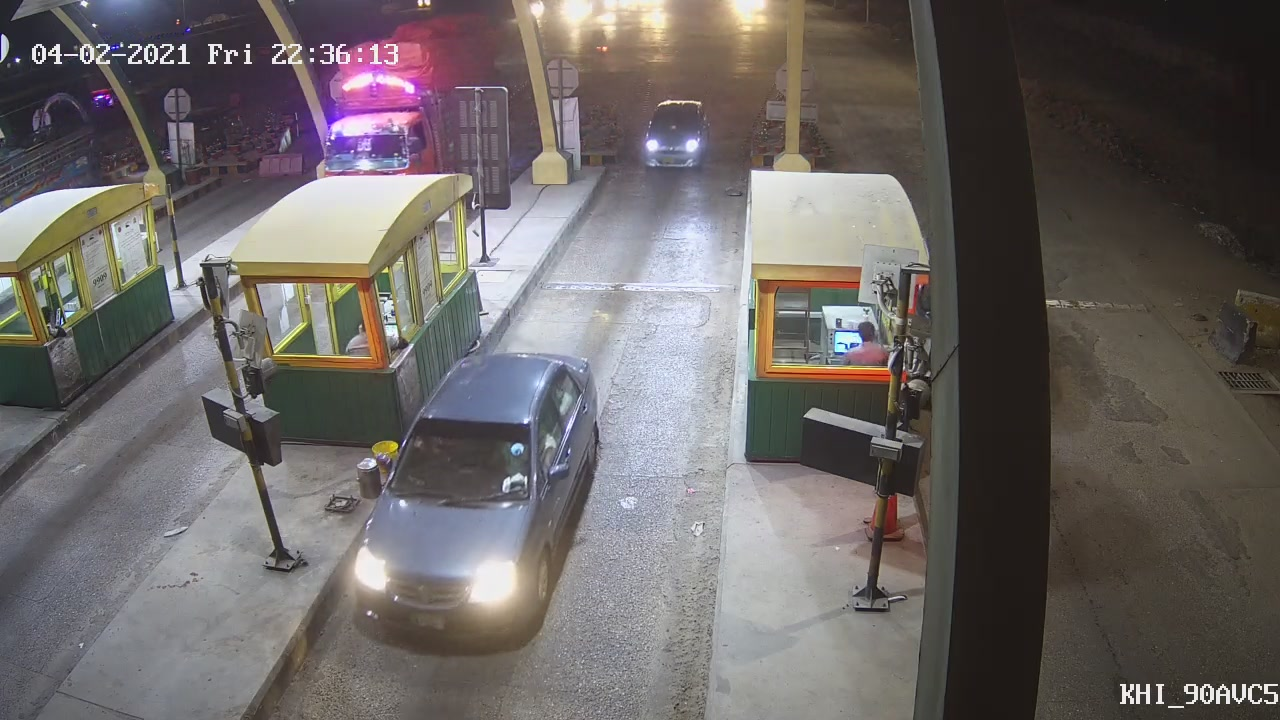F1: (352, 342, 610, 634)
